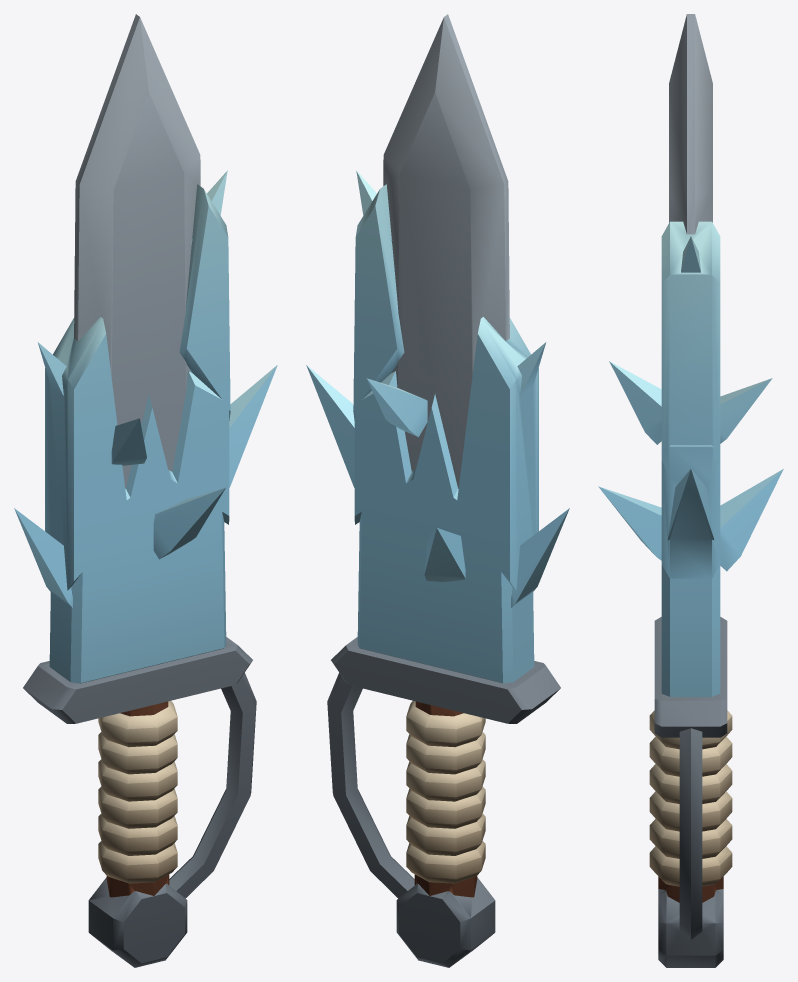
File: sword_frost.glb
The picture shows the model from 3 angles, left to right: view 1: azimuth 30°, elevation 25°; view 2: azimuth 150°, elevation 25°; view 3: azimuth 270°, elevation 25°; orthographic projection.
Parts seen in each view (by area): view 1: Item; view 2: Item; view 3: Item.
Boxes of the visible parts, x1,y1,x2,y2 form: Item: (14, 14, 277, 967); Item: (306, 14, 569, 967); Item: (598, 14, 783, 967).
Size of the model in its own units: 0.5242 by 1.78 by 0.3177.
Materials: 3 (3 with a texture image).
